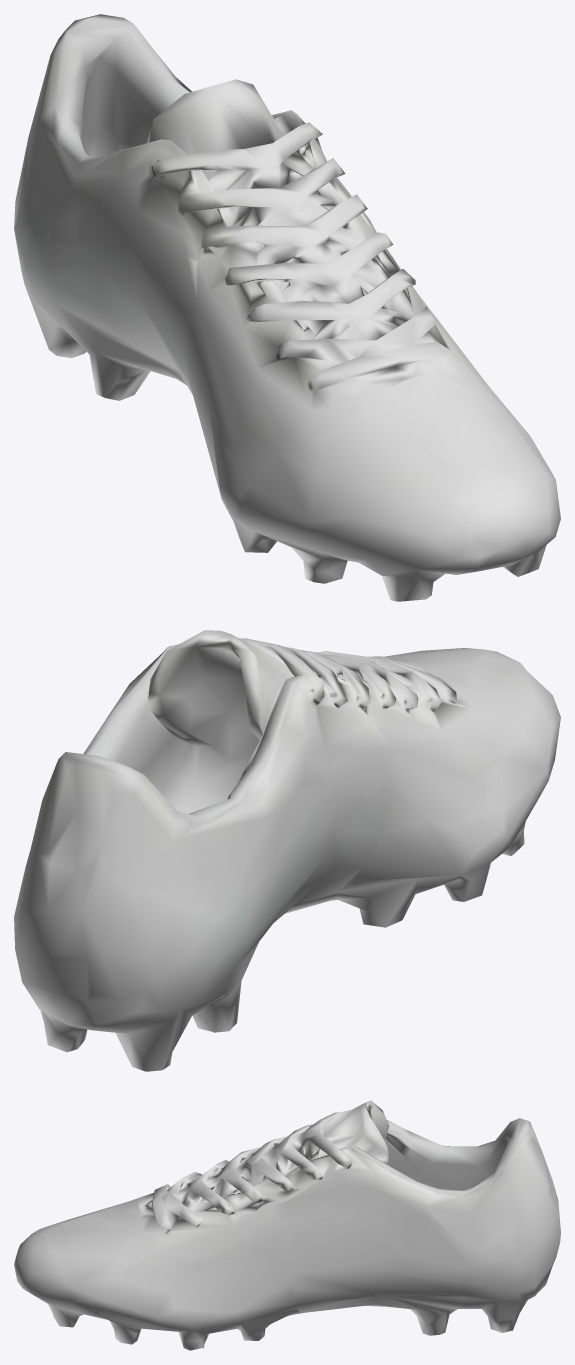
File: boot-starter-lod.glb
3 renders of one model, top to bottom at view 1: azimuth 30°, elevation 25°; view 2: azimuth 150°, elevation 25°; view 3: azimuth 270°, elevation 25°, orthographic. The views are drawn at different scales.
Visible parts, largest first — view 1: tripo_node_09e3b14e-85aa-4fda-8166-1ba66bbfa913; view 2: tripo_node_09e3b14e-85aa-4fda-8166-1ba66bbfa913; view 3: tripo_node_09e3b14e-85aa-4fda-8166-1ba66bbfa913.
Part boxes in pixels (bbox=[...]): tripo_node_09e3b14e-85aa-4fda-8166-1ba66bbfa913: bbox=[14, 14, 560, 601]; tripo_node_09e3b14e-85aa-4fda-8166-1ba66bbfa913: bbox=[14, 630, 560, 1071]; tripo_node_09e3b14e-85aa-4fda-8166-1ba66bbfa913: bbox=[14, 1100, 560, 1350].
Bounding box in the file's own units: 0.3484 × 0.4233 × 0.9995.
1 material, 1 textured.
